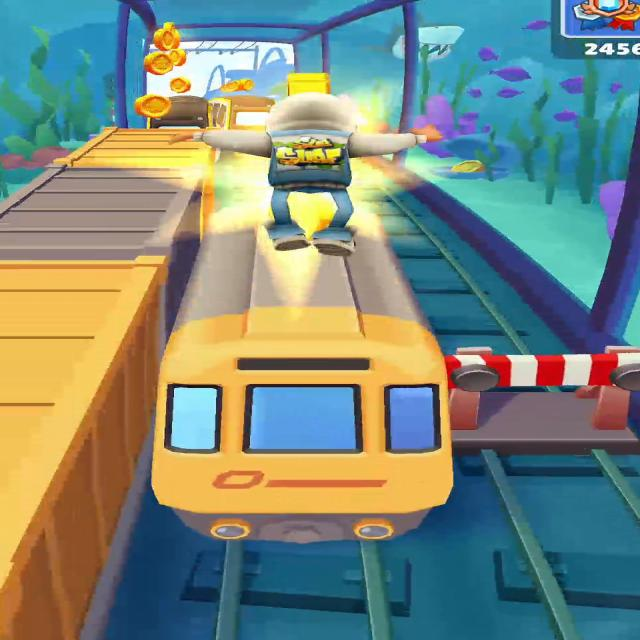blocker: (445, 346, 639, 431)
train: (152, 315, 452, 542), (210, 96, 275, 129), (151, 96, 210, 128)
